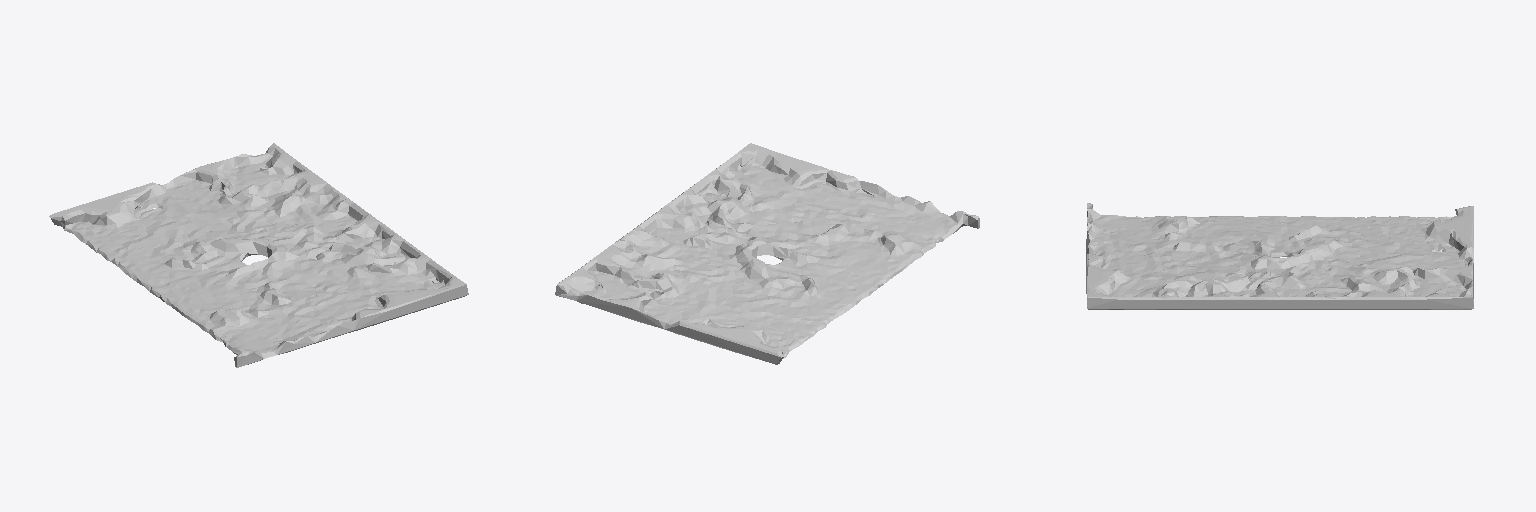
3 renders of one model, left to right at view 1: azimuth 30°, elevation 25°; view 2: azimuth 150°, elevation 25°; view 3: azimuth 270°, elevation 25°, orthographic.
Parts seen in each view (by area): view 1: Liquid_Domain; view 2: Liquid_Domain; view 3: Liquid_Domain.
Part boxes in pixels (x1,y1,x2,y2): Liquid_Domain: (49,143,468,367); Liquid_Domain: (555,143,979,364); Liquid_Domain: (1086,203,1473,309).
Size of the model in its own units: 116 by 13.73 by 168.